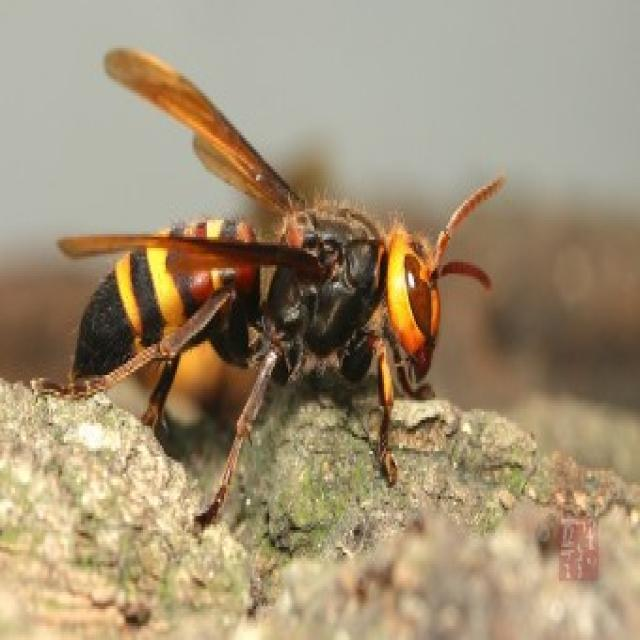Wasp: (60, 37, 502, 527)
